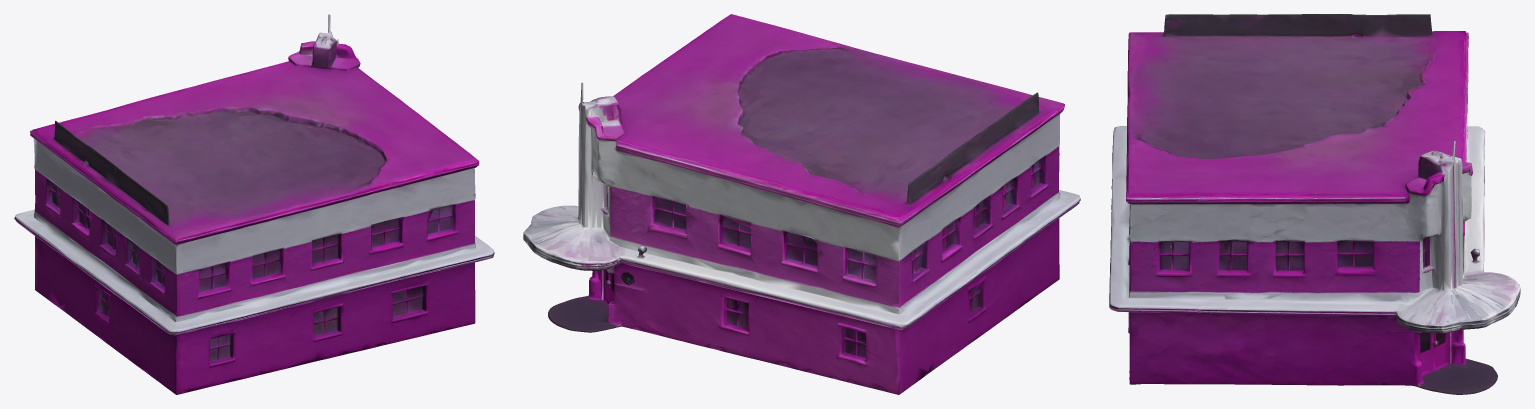
File: bld_nightclub.glb
3 views of the same model, side by side, from view 1: azimuth 30°, elevation 25°; view 2: azimuth 150°, elevation 25°; view 3: azimuth 270°, elevation 25° (orthographic). The views are drawn at different scales.
Visible parts, largest first — view 1: tripo_node_be3a68d8-6589-4c70-b7f6-8504c299bdcf; view 2: tripo_node_be3a68d8-6589-4c70-b7f6-8504c299bdcf; view 3: tripo_node_be3a68d8-6589-4c70-b7f6-8504c299bdcf.
Part boxes in pixels (x1,y1,x2,y2): tripo_node_be3a68d8-6589-4c70-b7f6-8504c299bdcf: (14,14,494,394); tripo_node_be3a68d8-6589-4c70-b7f6-8504c299bdcf: (523,14,1080,394); tripo_node_be3a68d8-6589-4c70-b7f6-8504c299bdcf: (1109,14,1520,394).
Size of the model in its own units: 0.983 by 0.5508 by 0.8528.
Materials: 1 (1 with a texture image).
